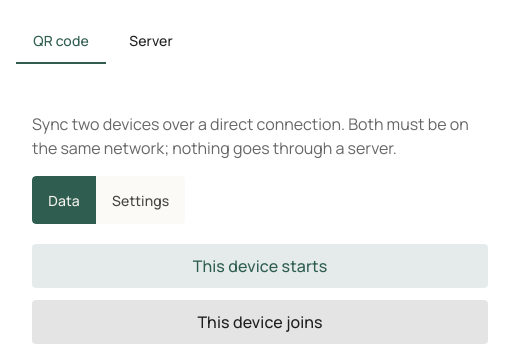
Scenario: SyncPage tabs › shows the QR flow on the default tab and the placeholder on the Server tab
Click the tab "Server" at (151, 40), box [106,16,196,64]
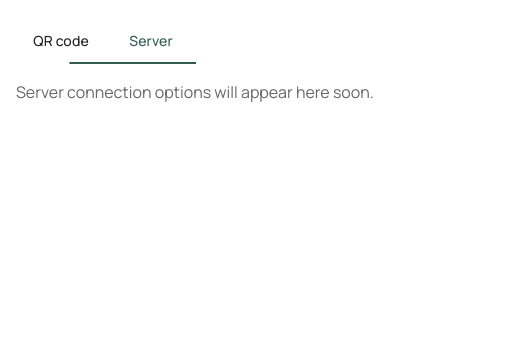
Expected: the text "This device starts" is gone
Expected: the text "Server connection options will appear here soon." is shown, [16,81,374,103]
